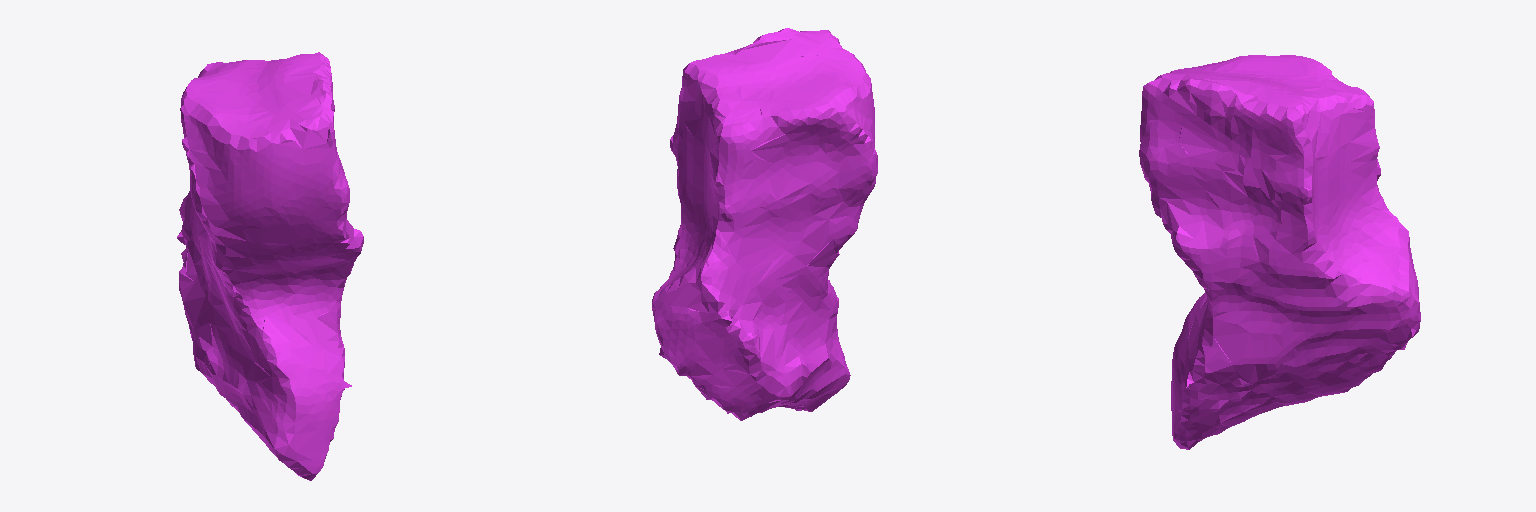
The model's file is Model_10088_LH__Dysgranular_insular_cortex_(DI).obj.
The picture shows the model from 3 angles: view 1: azimuth 30°, elevation 25°; view 2: azimuth 150°, elevation 25°; view 3: azimuth 270°, elevation 25°; orthographic projection.
Size of the model in its own units: 1.81 by 3.89 by 2.61.